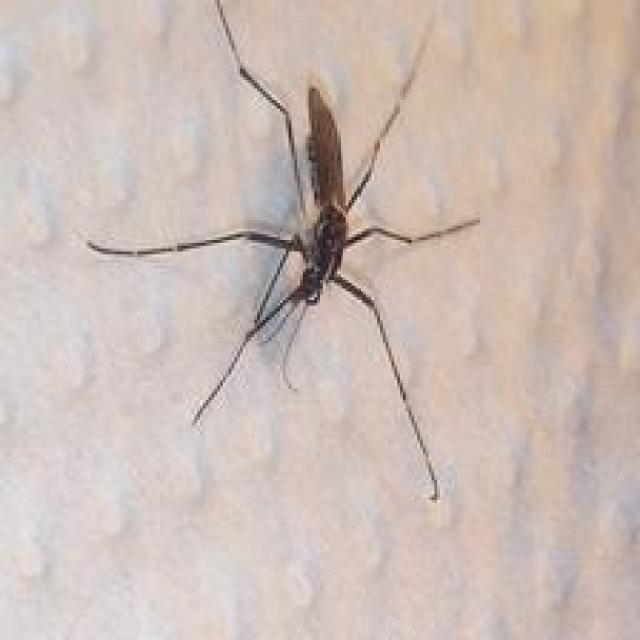Aedes albopictus: (81, 0, 482, 503)
